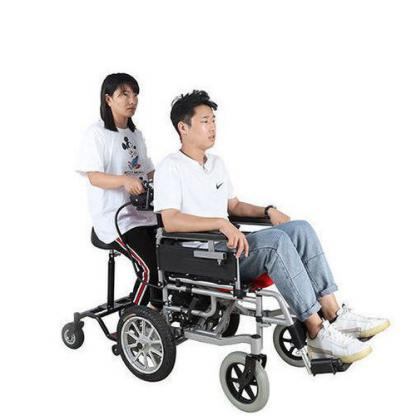wheelchair: (144, 86, 390, 377)
